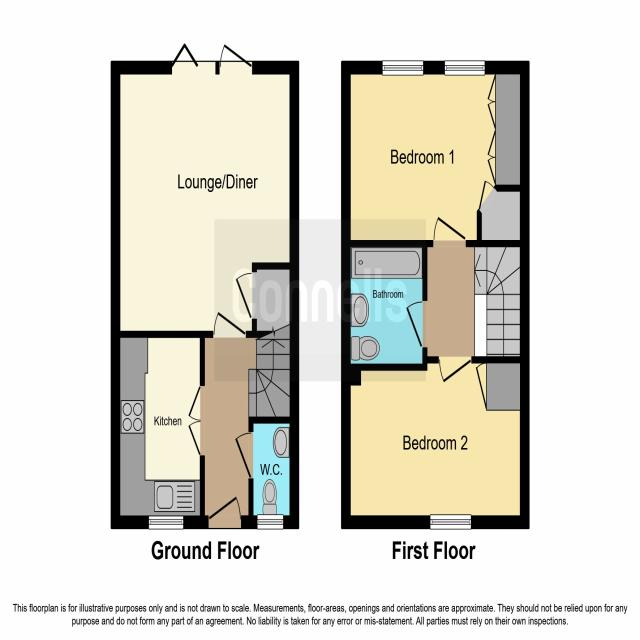DOOR: (432, 214, 468, 249), (233, 270, 257, 321), (208, 495, 242, 530), (233, 430, 254, 481), (437, 355, 473, 384), (212, 310, 247, 339)
DOUBLE DOOR: (187, 383, 205, 458)
ROOM: (110, 38, 300, 338), (340, 60, 530, 248), (340, 355, 530, 530), (110, 330, 205, 530), (404, 298, 428, 350)
WINDOW: (444, 58, 486, 77), (381, 59, 425, 77), (429, 513, 472, 530), (148, 515, 184, 530), (256, 513, 284, 530)
